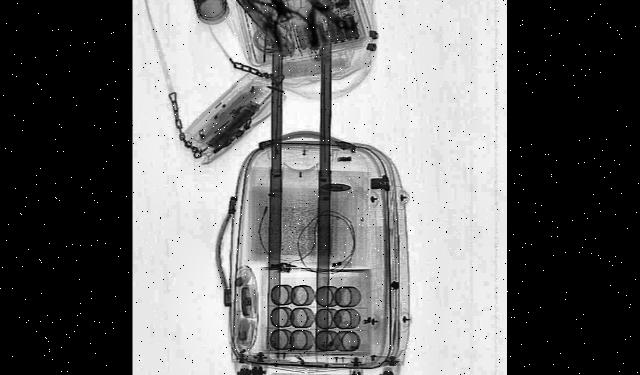Pliers: (238, 0, 295, 24)
Wrench: (275, 0, 350, 38)
